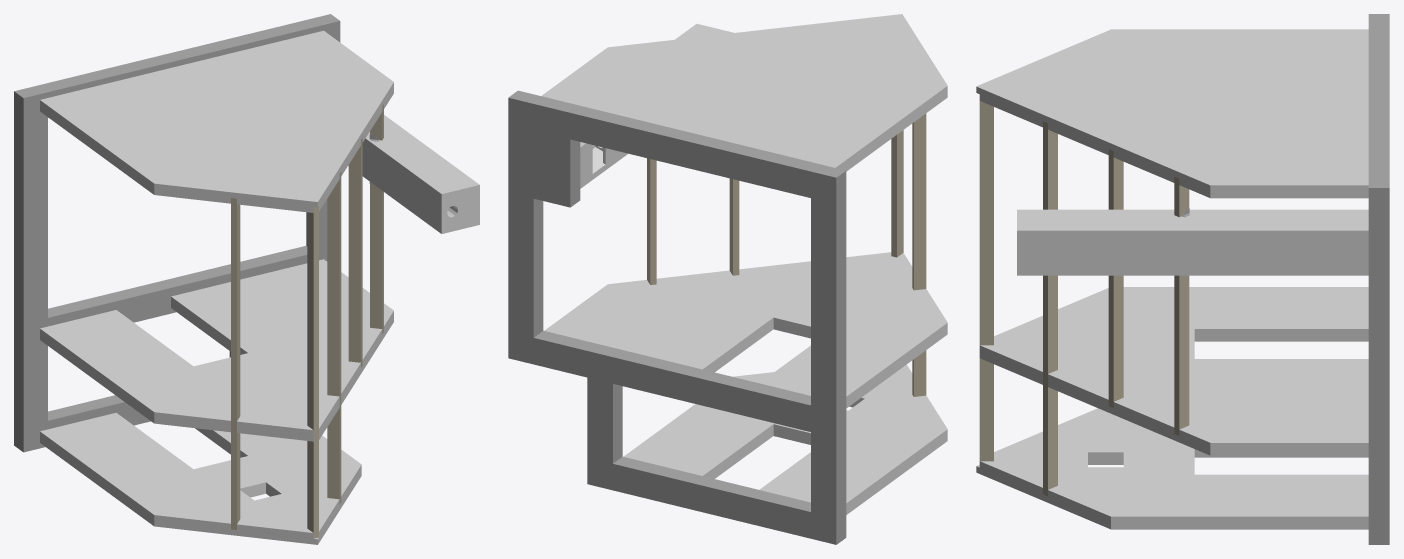
The model's file is structural-model.glb.
The picture shows the model from 3 angles, left to right: view 1: azimuth 30°, elevation 25°; view 2: azimuth 150°, elevation 25°; view 3: azimuth 270°, elevation 25°; orthographic projection. The views are drawn at different scales.
Visible parts, largest first — view 1: geometry_0; view 2: geometry_0; view 3: geometry_0.
Part boxes in pixels (left/top/right/bottom): geometry_0: left=14, top=14, right=479, bottom=544; geometry_0: left=508, top=14, right=947, bottom=544; geometry_0: left=976, top=14, right=1389, bottom=544.
Bounding box in the file's own units: 5.8 × 6.2 × 5.83.
